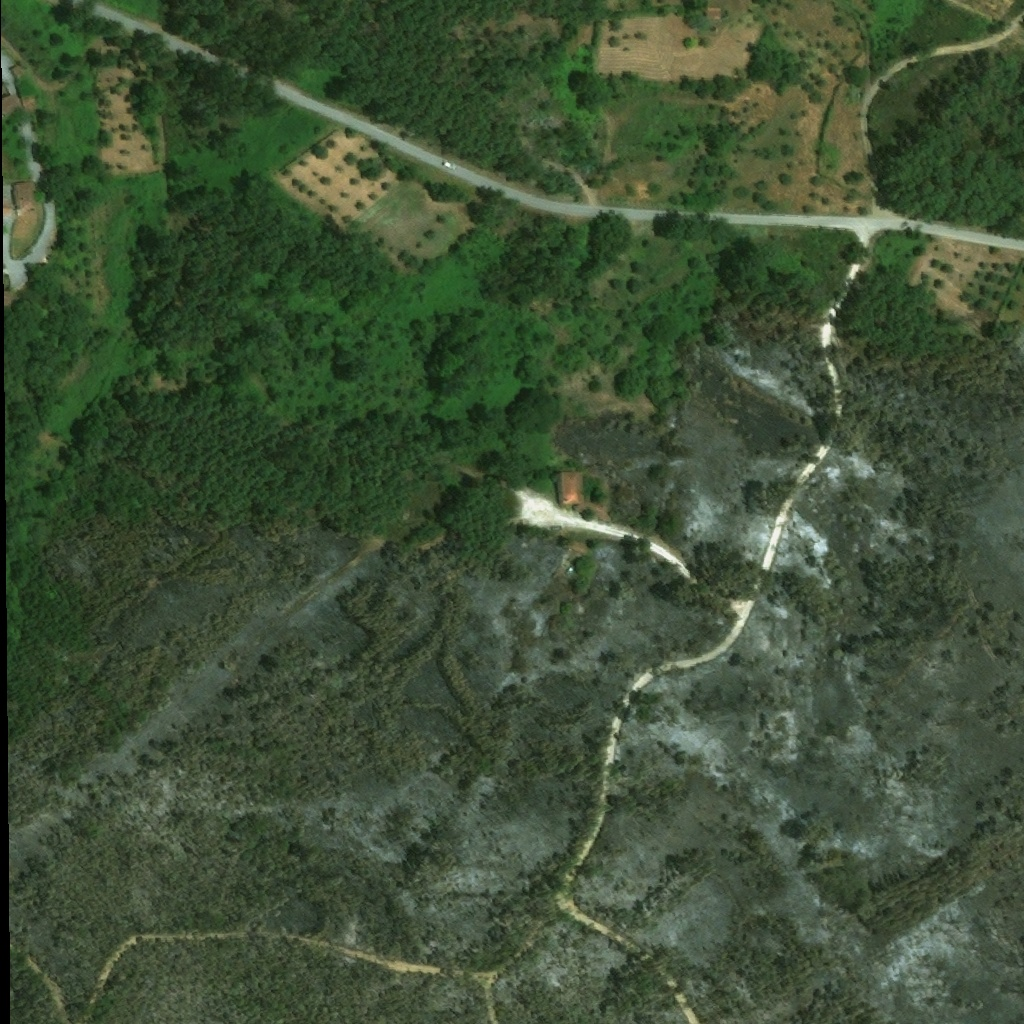0 no-damage: (556, 471, 585, 506), (13, 181, 38, 212), (10, 63, 30, 83), (9, 94, 23, 115), (23, 95, 38, 111), (574, 503, 589, 513)
